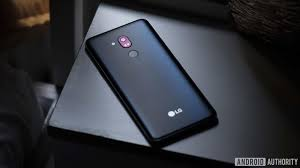lg: (82, 17, 222, 149)
